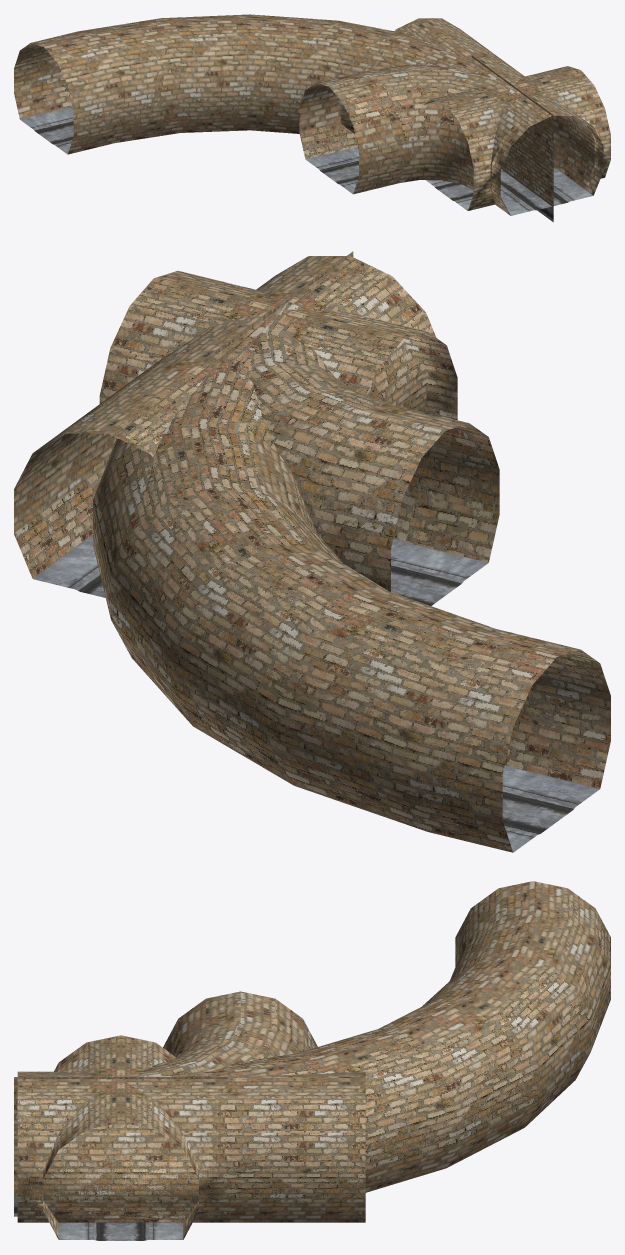
File: sewers.glb
The picture shows the model from 3 angles, top to bottom: view 1: azimuth 30°, elevation 25°; view 2: azimuth 150°, elevation 25°; view 3: azimuth 270°, elevation 25°; orthographic projection. The views are drawn at different scales.
Parts seen in each view (by area): view 1: SewersTurnBig-col, SewersTurnSmall-col, SewersCross-col, SewersL-col, SewersTunnel-col, SewerWall-col; view 2: SewersTurnBig-col, SewersTurnSmall-col, SewersTunnel-col, SewersCross-col, SewersL-col; view 3: SewersTurnBig-col, SewersTunnel-col, SewersL-col, SewersCross-col, SewersTurnSmall-col, SewersT-col, SewerWall-col.
Boxes of the visible parts, x1,y1,x2,y2 form: SewersTurnBig-col: (14, 14, 591, 207); SewersTurnSmall-col: (299, 64, 594, 207); SewersCross-col: (426, 58, 610, 215); SewersL-col: (423, 87, 603, 215); SewersTunnel-col: (394, 18, 594, 208); SewerWall-col: (471, 55, 553, 222); SewersTurnBig-col: (93, 302, 610, 852); SewersTurnSmall-col: (248, 268, 499, 605); SewersTunnel-col: (14, 301, 426, 597); SewersCross-col: (99, 256, 457, 447); SewersL-col: (260, 256, 427, 412); SewersTurnBig-col: (147, 881, 610, 1192); SewersTunnel-col: (106, 1071, 365, 1222); SewersL-col: (17, 1035, 198, 1222); SewersCross-col: (17, 1035, 224, 1240); SewersTurnSmall-col: (41, 991, 317, 1167); SewersT-col: (17, 1079, 224, 1222); SewerWall-col: (14, 1077, 227, 1216).
Bounding box in the file's own units: 24.26 × 6.55 × 25.34.
Materials: 2 (2 with a texture image).
